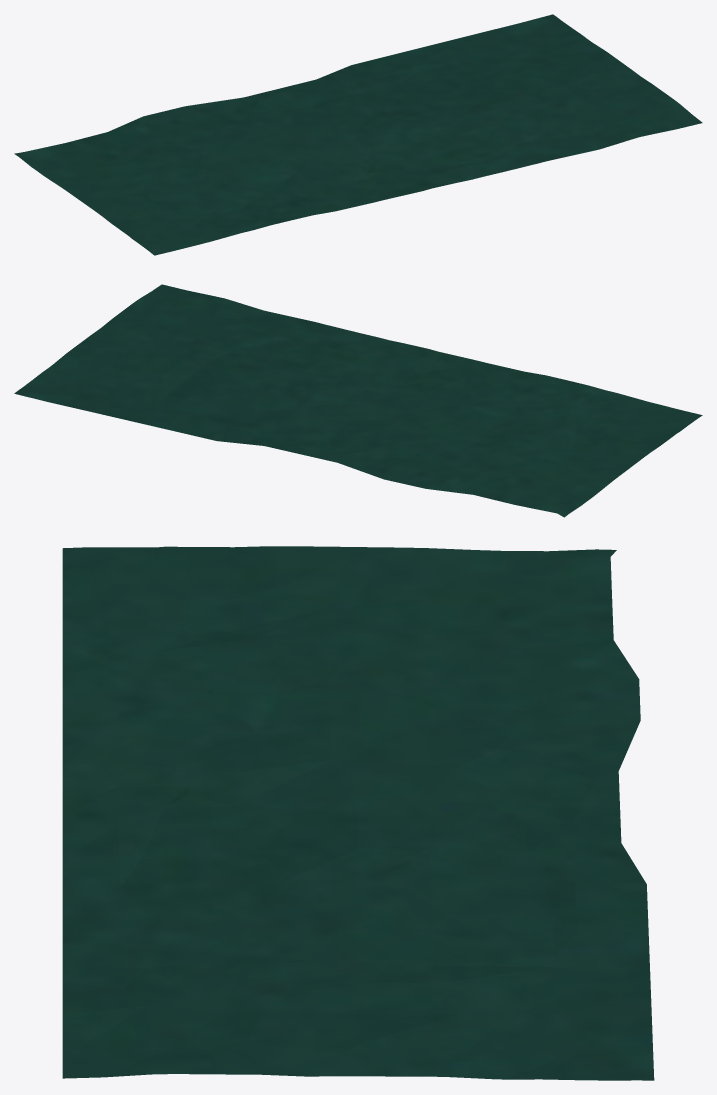
The picture shows the model from 3 angles, top to bottom: view 1: azimuth 30°, elevation 25°; view 2: azimuth 150°, elevation 25°; view 3: azimuth 270°, elevation 25°; orthographic projection. The views are drawn at different scales.
Size of the model in its own units: 52.22 by 0.5298 by 24.72.
1 material, 1 textured.
